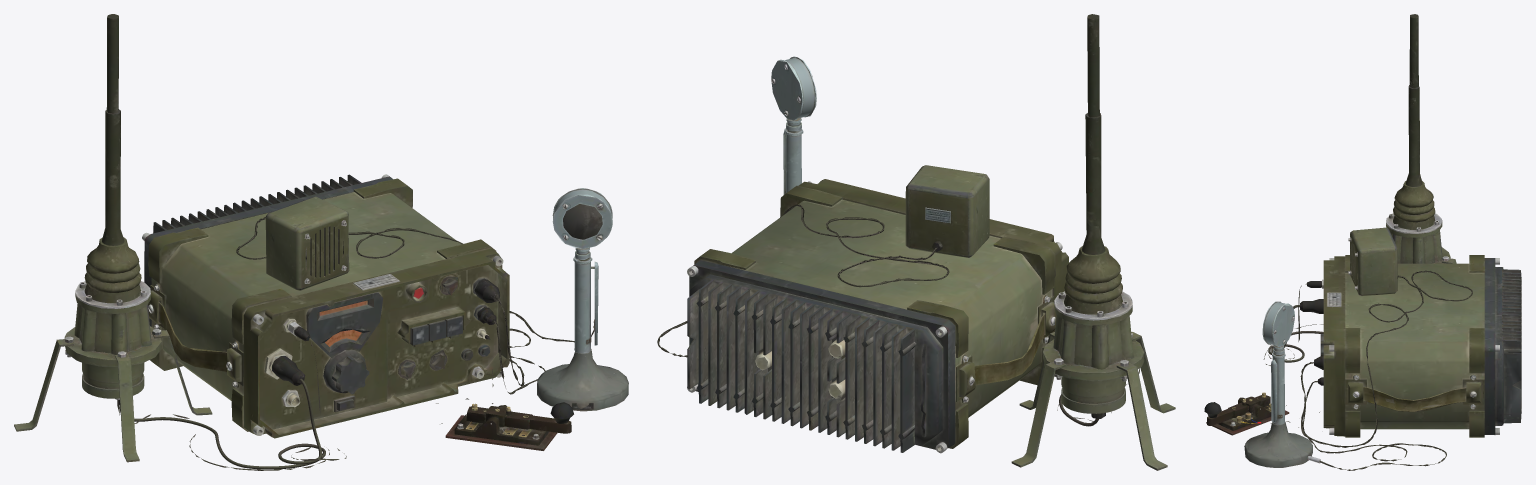
File: vintage_radio_transceiver.glb
3 views of the same model, side by side, from view 1: azimuth 30°, elevation 25°; view 2: azimuth 150°, elevation 25°; view 3: azimuth 270°, elevation 25° (orthographic). The views are drawn at different scales.
Visible parts, largest first — view 1: vintage_radio_transceiver, vintage_radio_transceiver_cable; view 2: vintage_radio_transceiver, vintage_radio_transceiver_cable; view 3: vintage_radio_transceiver, vintage_radio_transceiver_cable.
Boxes of the visible parts, x1=… form: vintage_radio_transceiver: x1=142, y1=174, x2=509, y2=438; vintage_radio_transceiver_cable: x1=14, y1=14, x2=628, y2=470; vintage_radio_transceiver: x1=687, y1=179, x2=1068, y2=453; vintage_radio_transceiver_cable: x1=657, y1=14, x2=1175, y2=470; vintage_radio_transceiver: x1=1320, y1=255, x2=1521, y2=437; vintage_radio_transceiver_cable: x1=1204, y1=14, x2=1472, y2=470.
Size of the model in its own units: 0.574 by 0.4344 by 0.4127.
2 materials, 2 textured.
